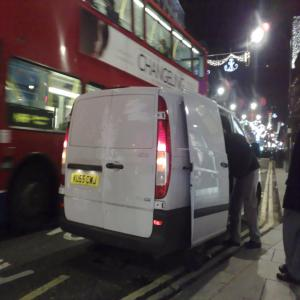Vehicle-registration-plate: (71, 173, 100, 187)
